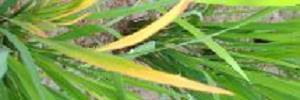RiceTungro: (102, 57, 236, 88), (95, 21, 179, 49)
